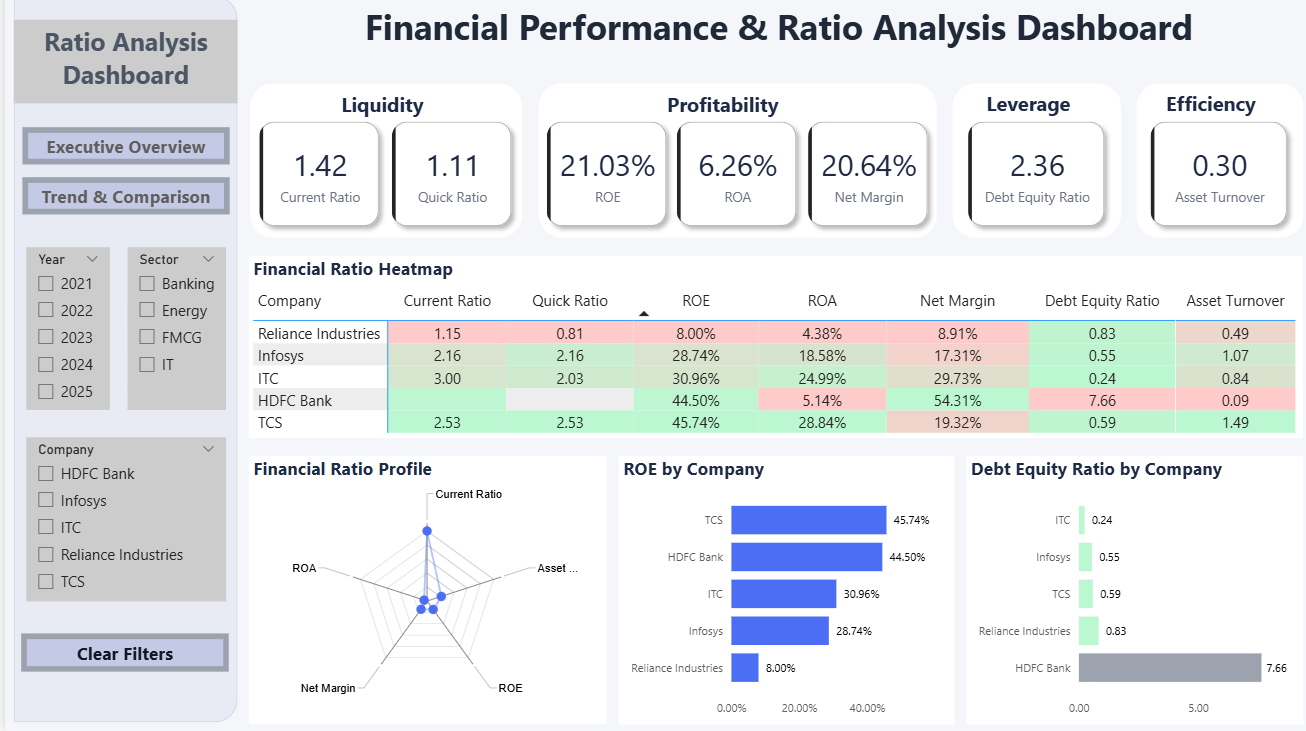

The dashboard page shown, as its layout file describes it:
{"tool":"powerbi","page":{"name":"Ratio Analysis Dashboard","canvas":[1400,800],"ordinal":1},"visuals":[{"type":"shape","box":[9.4,10.7,239.9,778.8],"z":0},{"type":"slicer","fields":{"Values":["Date_Table.Year"]},"box":[22.8,280.2,89.8,174.3],"z":1000},{"type":"slicer","fields":{"Values":["Company_Table.Company"]},"box":[22.8,483.9,214.5,175.6],"z":2000},{"type":"slicer","fields":{"Values":["Company_Table.Sector"]},"box":[131.4,280.2,105.9,174.3],"z":3000},{"type":"shape","box":[263.3,104.1,292,165.5],"z":4000},{"type":"textbox","box":[277.2,106.8,254.5,41.7],"z":5000},{"type":"cardVisual","fields":{"Data":["Balance Sheet.Current Ratio"]},"box":[256.4,129.1,162.7,146],"z":6000},{"type":"shape","box":[572,104.1,427,165.5],"z":7000},{"type":"shape","box":[1015.6,104.1,180.8,165.5],"z":8000},{"type":"shape","box":[1213.1,104.1,179.4,165.5],"z":9000},{"type":"cardVisual","fields":{"Data":["Balance Sheet.Quick Ratio"]},"box":[398.2,129.1,162.7,146],"z":10000},{"type":"cardVisual","fields":{"Data":["Cash Flow.ROE"]},"box":[563.7,129.1,162.7,146],"z":11000},{"type":"cardVisual","fields":{"Data":["Cash Flow.ROA"]},"box":[704.1,129.1,162.7,146],"z":12000},{"type":"cardVisual","fields":{"Data":["Cash Flow.Net Margin"]},"box":[844.6,129.1,162.7,146],"z":13000},{"type":"cardVisual","fields":{"Data":["Balance Sheet.Debt Equity Ratio"]},"box":[1015.6,129.1,180.8,146],"z":14000},{"type":"cardVisual","fields":{"Data":["Cash Flow.Asset Turnover"]},"box":[1211.7,129.1,180.8,146],"z":15000},{"type":"textbox","box":[585.9,106.8,254.5,41.7],"z":16000},{"type":"textbox","box":[1030.9,105.5,139.1,41.7],"z":17000},{"type":"textbox","box":[1227,105.5,139.1,41.7],"z":18000},{"type":"pivotTable","title":"Financial Ratio Heatmap","fields":{"Rows":["Company_Table.Company"],"Values":["Balance Sheet.Current Ratio","Balance Sheet.Quick Ratio","Cash Flow.ROE","Cash Flow.ROA","Cash Flow.Net Margin","Balance Sheet.Debt Equity Ratio","Cash Flow.Asset Turnover"]},"box":[261.8,290,1130.2,195.5],"z":19000},{"type":"RadarChart1446119667547","title":"Financial Ratio Profile","fields":{"Category":["Ratio_Table.Ratio"],"Y":["Cash Flow.Selected Ratio Value"]},"box":[261.8,503.8,382.8,286.7],"z":20000},{"type":"clusteredBarChart","fields":{"Y":["Cash Flow.ROE"],"Category":["Company_Table.Company"]},"box":[657.9,503.8,359.6,288.4],"z":21000},{"type":"clusteredBarChart","fields":{"Category":["Company_Table.Company"],"Y":["Balance Sheet.Debt Equity Ratio"]},"box":[1030.8,503.8,361.3,288.4],"z":22000},{"type":"actionButton","box":[18.2,205.5,222.1,39.8],"z":23000},{"type":"actionButton","box":[18.2,150.8,222.1,39.8],"z":24000},{"type":"textbox","box":[334.8,13.3,989.4,66.3],"z":25000},{"type":"textbox","box":[9.9,36.5,240.3,89.5],"z":26000},{"type":"actionButton","box":[17.6,694.1,222.6,41],"z":27000}]}

Visuals, with their boxes in screenshot pixels (x1, y1, x2, y2), scaled from the page's 1400x800 canvas onto the 1306x731 screenshot:
shape: bbox=(9, 10, 233, 721)
slicer - Date_Table.Year: bbox=(21, 256, 105, 415)
slicer - Company_Table.Company: bbox=(21, 442, 221, 603)
slicer - Company_Table.Sector: bbox=(123, 256, 221, 415)
shape: bbox=(246, 95, 518, 246)
textbox: bbox=(259, 98, 496, 136)
cardVisual - Balance Sheet.Current Ratio: bbox=(239, 118, 391, 251)
shape: bbox=(534, 95, 932, 246)
shape: bbox=(947, 95, 1116, 246)
shape: bbox=(1132, 95, 1299, 246)
cardVisual - Balance Sheet.Quick Ratio: bbox=(371, 118, 523, 251)
cardVisual - Cash Flow.ROE: bbox=(526, 118, 678, 251)
cardVisual - Cash Flow.ROA: bbox=(657, 118, 809, 251)
cardVisual - Cash Flow.Net Margin: bbox=(788, 118, 940, 251)
cardVisual - Balance Sheet.Debt Equity Ratio: bbox=(947, 118, 1116, 251)
cardVisual - Cash Flow.Asset Turnover: bbox=(1130, 118, 1299, 251)
textbox: bbox=(547, 98, 784, 136)
textbox: bbox=(962, 96, 1091, 135)
textbox: bbox=(1145, 96, 1274, 135)
"Financial Ratio Heatmap" pivotTable: bbox=(244, 265, 1299, 444)
"Financial Ratio Profile" RadarChart1446119667547: bbox=(244, 460, 601, 722)
clusteredBarChart - Cash Flow.ROE x Company_Table.Company: bbox=(614, 460, 949, 724)
clusteredBarChart - Company_Table.Company x Balance Sheet.Debt Equity Ratio: bbox=(962, 460, 1299, 724)
actionButton: bbox=(17, 188, 224, 224)
actionButton: bbox=(17, 138, 224, 174)
textbox: bbox=(312, 12, 1235, 73)
textbox: bbox=(9, 33, 233, 115)
actionButton: bbox=(16, 634, 224, 672)
